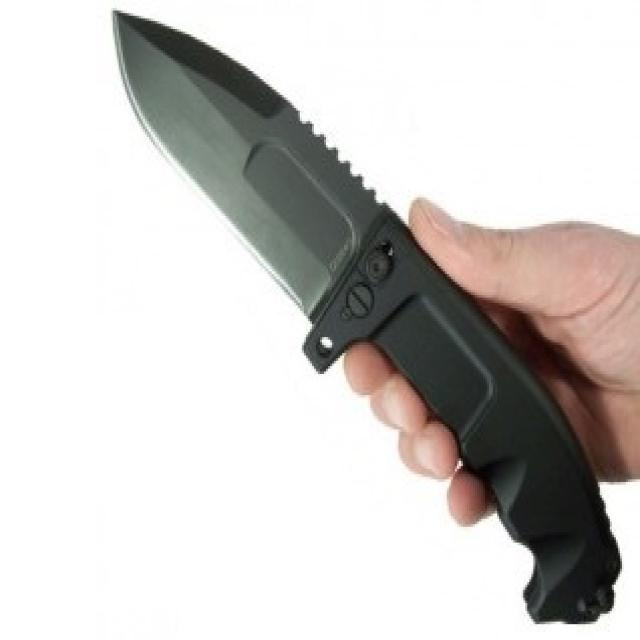knife: (104, 4, 628, 634)
